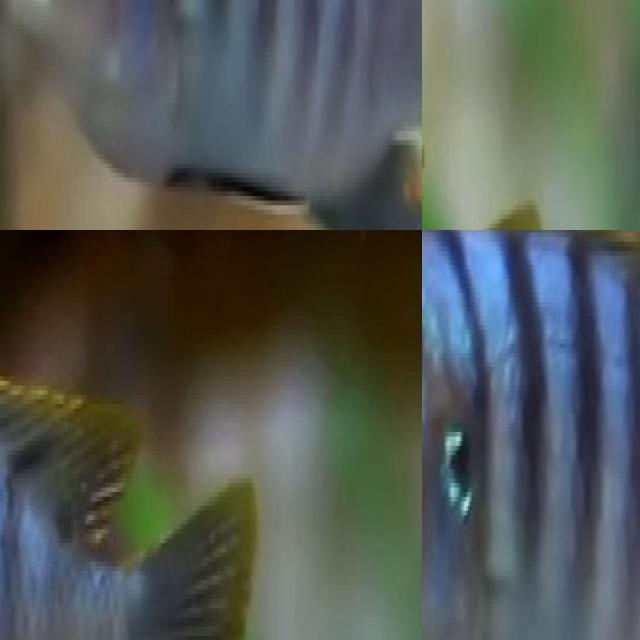fish: (0, 0, 422, 230), (0, 292, 264, 640), (422, 230, 640, 640), (422, 10, 562, 230)
